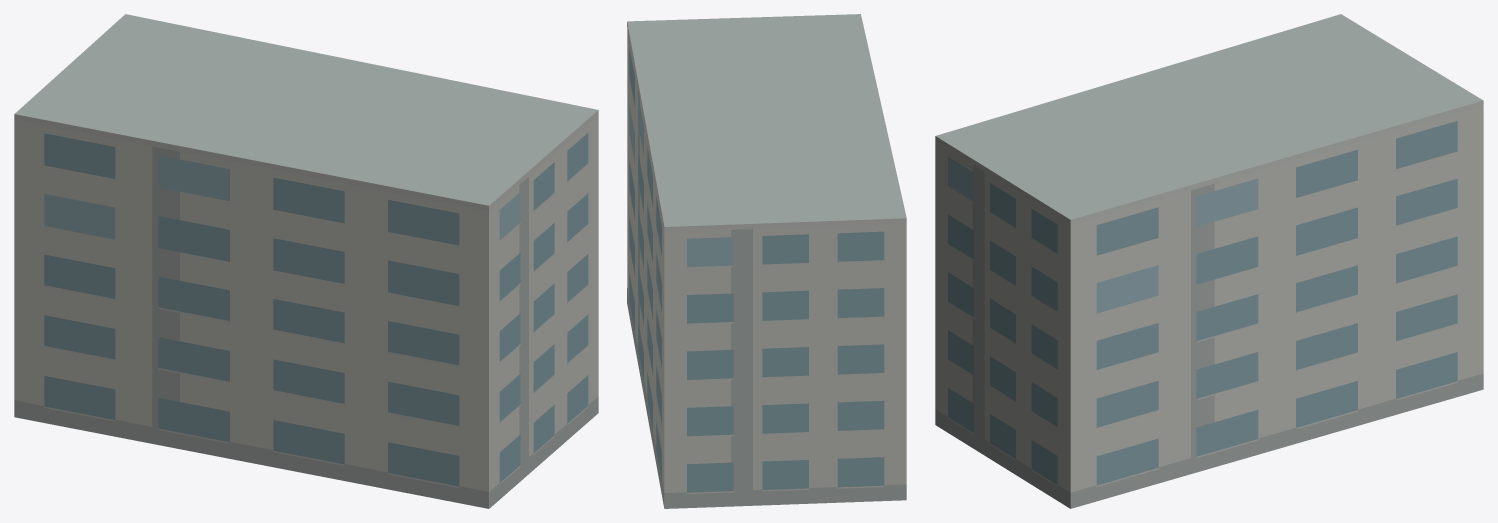
The model's file is survey-upis-32893965.glb.
3 views of the same model, side by side, from view 1: azimuth 30°, elevation 25°; view 2: azimuth 150°, elevation 25°; view 3: azimuth 270°, elevation 25° (orthographic). The views are drawn at different scales.
Parts seen in each view (by area): view 1: survey-upis-32893965.tmp; view 2: survey-upis-32893965.tmp; view 3: survey-upis-32893965.tmp.
Part boxes in pixels (x1,y1,x2,y2): survey-upis-32893965.tmp: [14, 14, 598, 508]; survey-upis-32893965.tmp: [627, 14, 906, 508]; survey-upis-32893965.tmp: [935, 14, 1483, 508].
Size of the model in its own units: 20.17 by 13.2 by 22.7.
